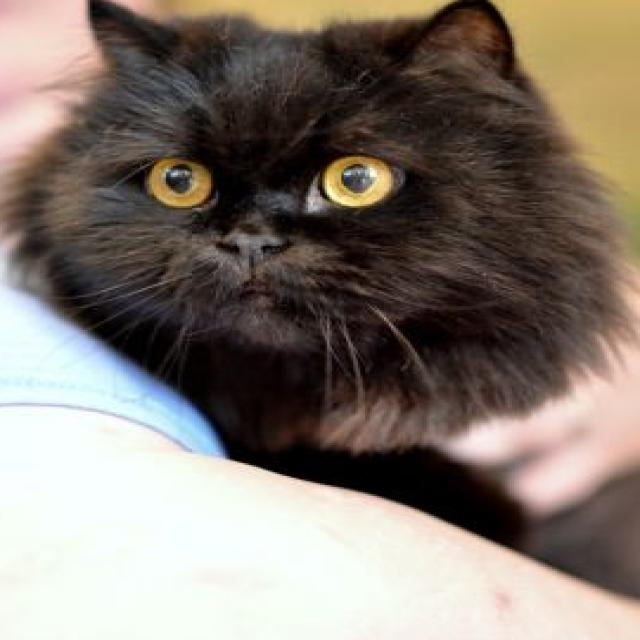Persian: (7, 0, 619, 551)
